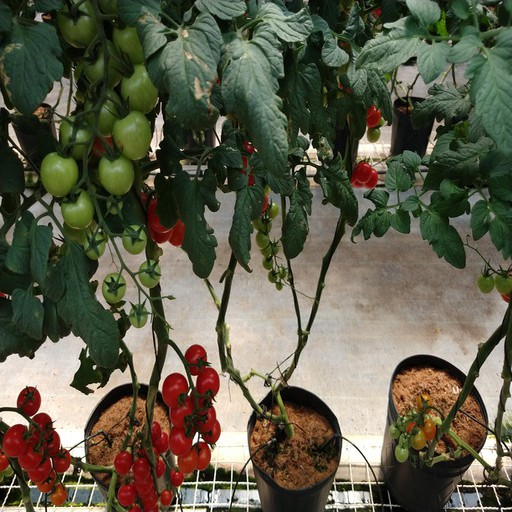green tomato bunch: (38, 1, 159, 329), (249, 202, 286, 289), (389, 409, 437, 464)
red tomato bunch: (162, 343, 221, 473), (6, 387, 70, 501), (111, 421, 184, 512), (334, 71, 381, 127), (341, 158, 380, 189)
